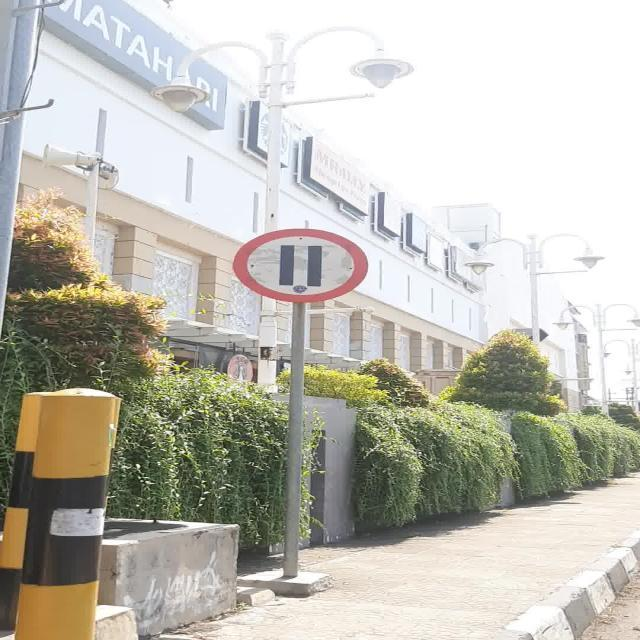Larangan Muatan - 10 ton: (233, 228, 368, 303)
